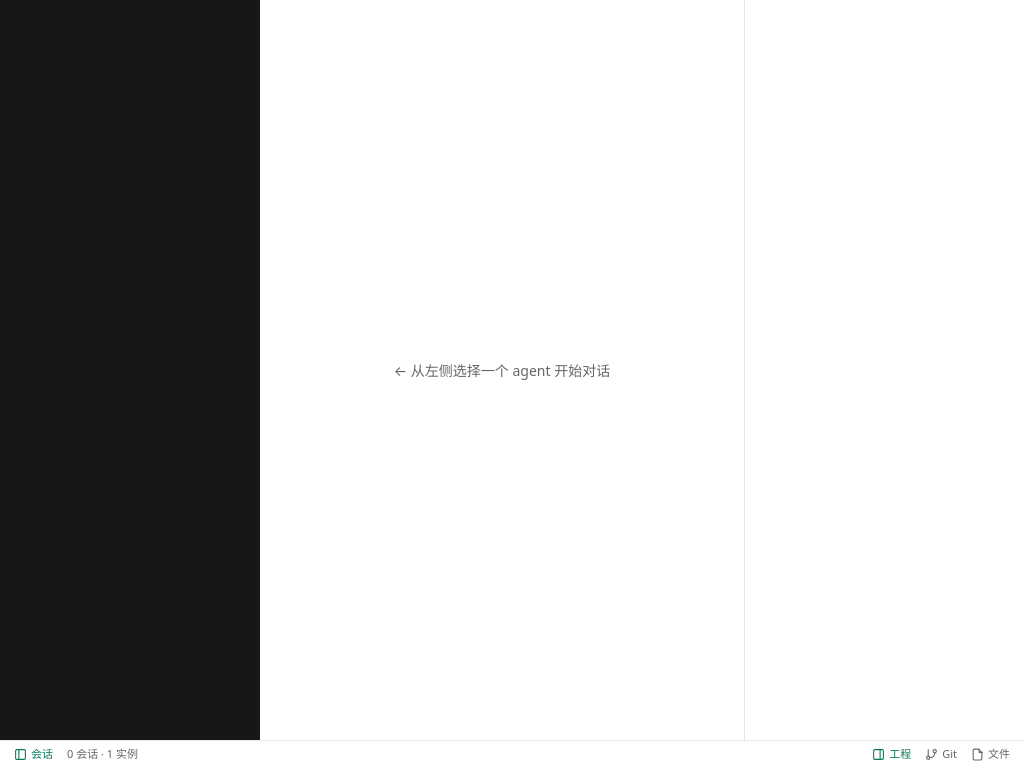
App 底部栏面板显隐（Zed 式 toggle） › Git toggle：git=false、files=false 首帧壳装 projects，点击实时换装 git 并写回 hub_panels
The width and height of the screenshot is (1024, 768).
Click the button with class "bottom-bar-toggle" showing "Git": [941, 754] box [919,744,963,766]
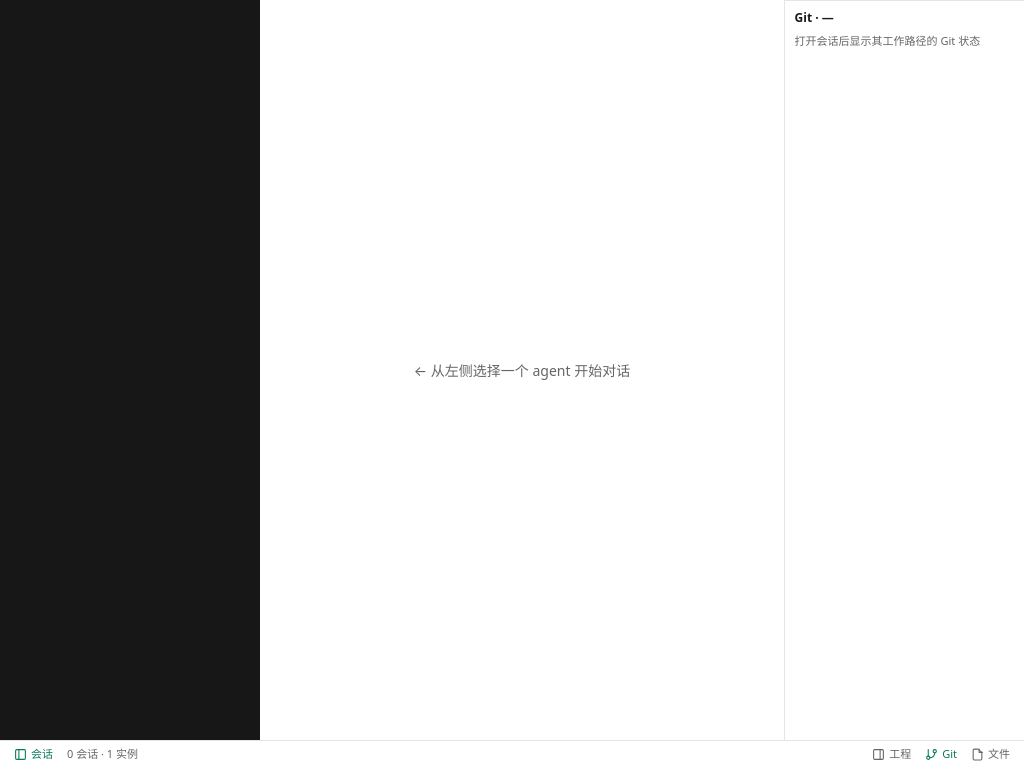
Now the element showing "Git · — 打开会话后显示其工作路径的 Git 状态" is shown, box [784,0,1023,740]
